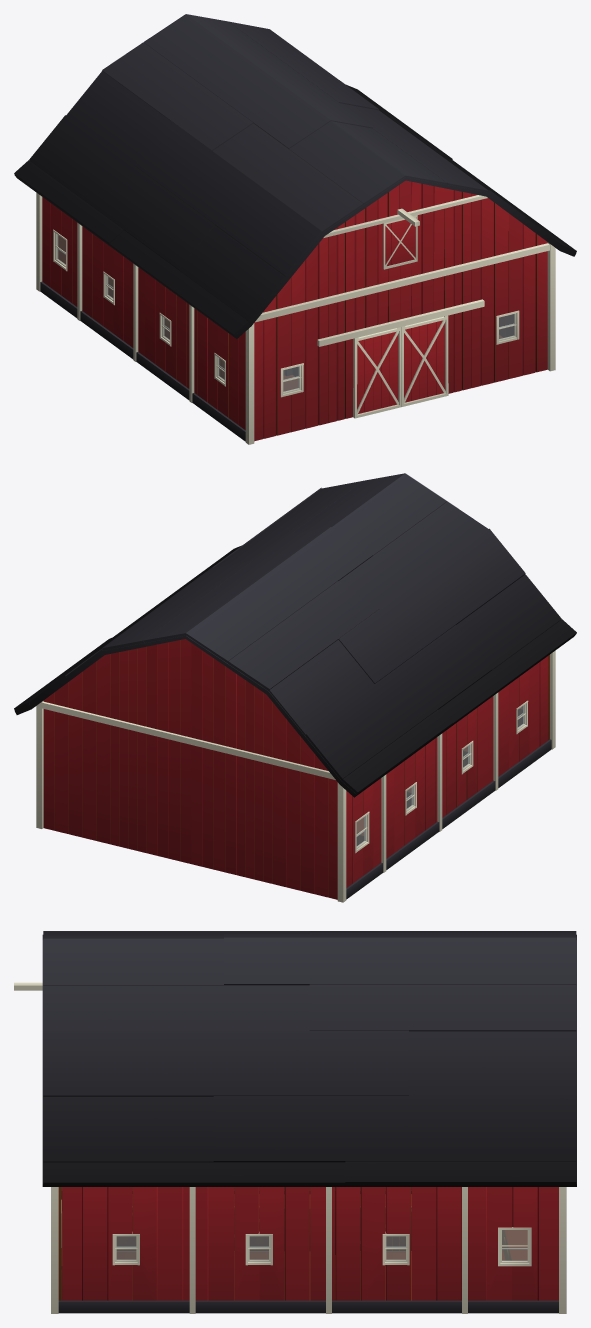
The model's file is Bld_Barn_01.obj.
3 renders of one model, top to bottom at view 1: azimuth 30°, elevation 25°; view 2: azimuth 150°, elevation 25°; view 3: azimuth 270°, elevation 25°, orthographic. The views are drawn at different scales.
Parts seen in each view (by area): view 1: Bld_Barn_01, Bld_Barn_Slide_Door_Left_01, Bld_Barn_Slide_Door_Right_01, Bld_Barn_Door_Upper_01, (_ignore)_Bld_Barn_Windows_01; view 2: Bld_Barn_01, (_ignore)_Bld_Barn_Windows_01; view 3: Bld_Barn_01, (_ignore)_Bld_Barn_Windows_01.
Part boxes in pixels (bbox=[...]): Bld_Barn_01: bbox=[14, 14, 576, 444]; Bld_Barn_Slide_Door_Left_01: bbox=[353, 327, 401, 418]; Bld_Barn_Slide_Door_Right_01: bbox=[401, 315, 448, 406]; Bld_Barn_Door_Upper_01: bbox=[383, 215, 417, 269]; (_ignore)_Bld_Barn_Windows_01: bbox=[56, 234, 514, 391]; Bld_Barn_01: bbox=[14, 473, 576, 902]; (_ignore)_Bld_Barn_Windows_01: bbox=[356, 705, 524, 846]; Bld_Barn_01: bbox=[14, 931, 576, 1313]; (_ignore)_Bld_Barn_Windows_01: bbox=[116, 1230, 527, 1261].
Bounding box in the file's own units: 12.54 × 8.21 × 14.65.
2 materials, 1 textured.
